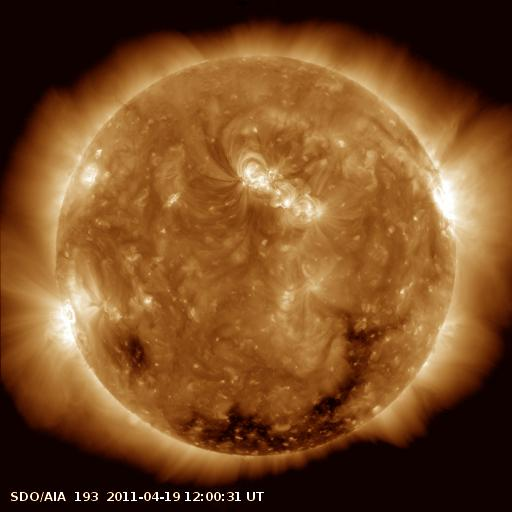coronal_hole: (171, 320, 406, 466), (108, 324, 160, 379)
